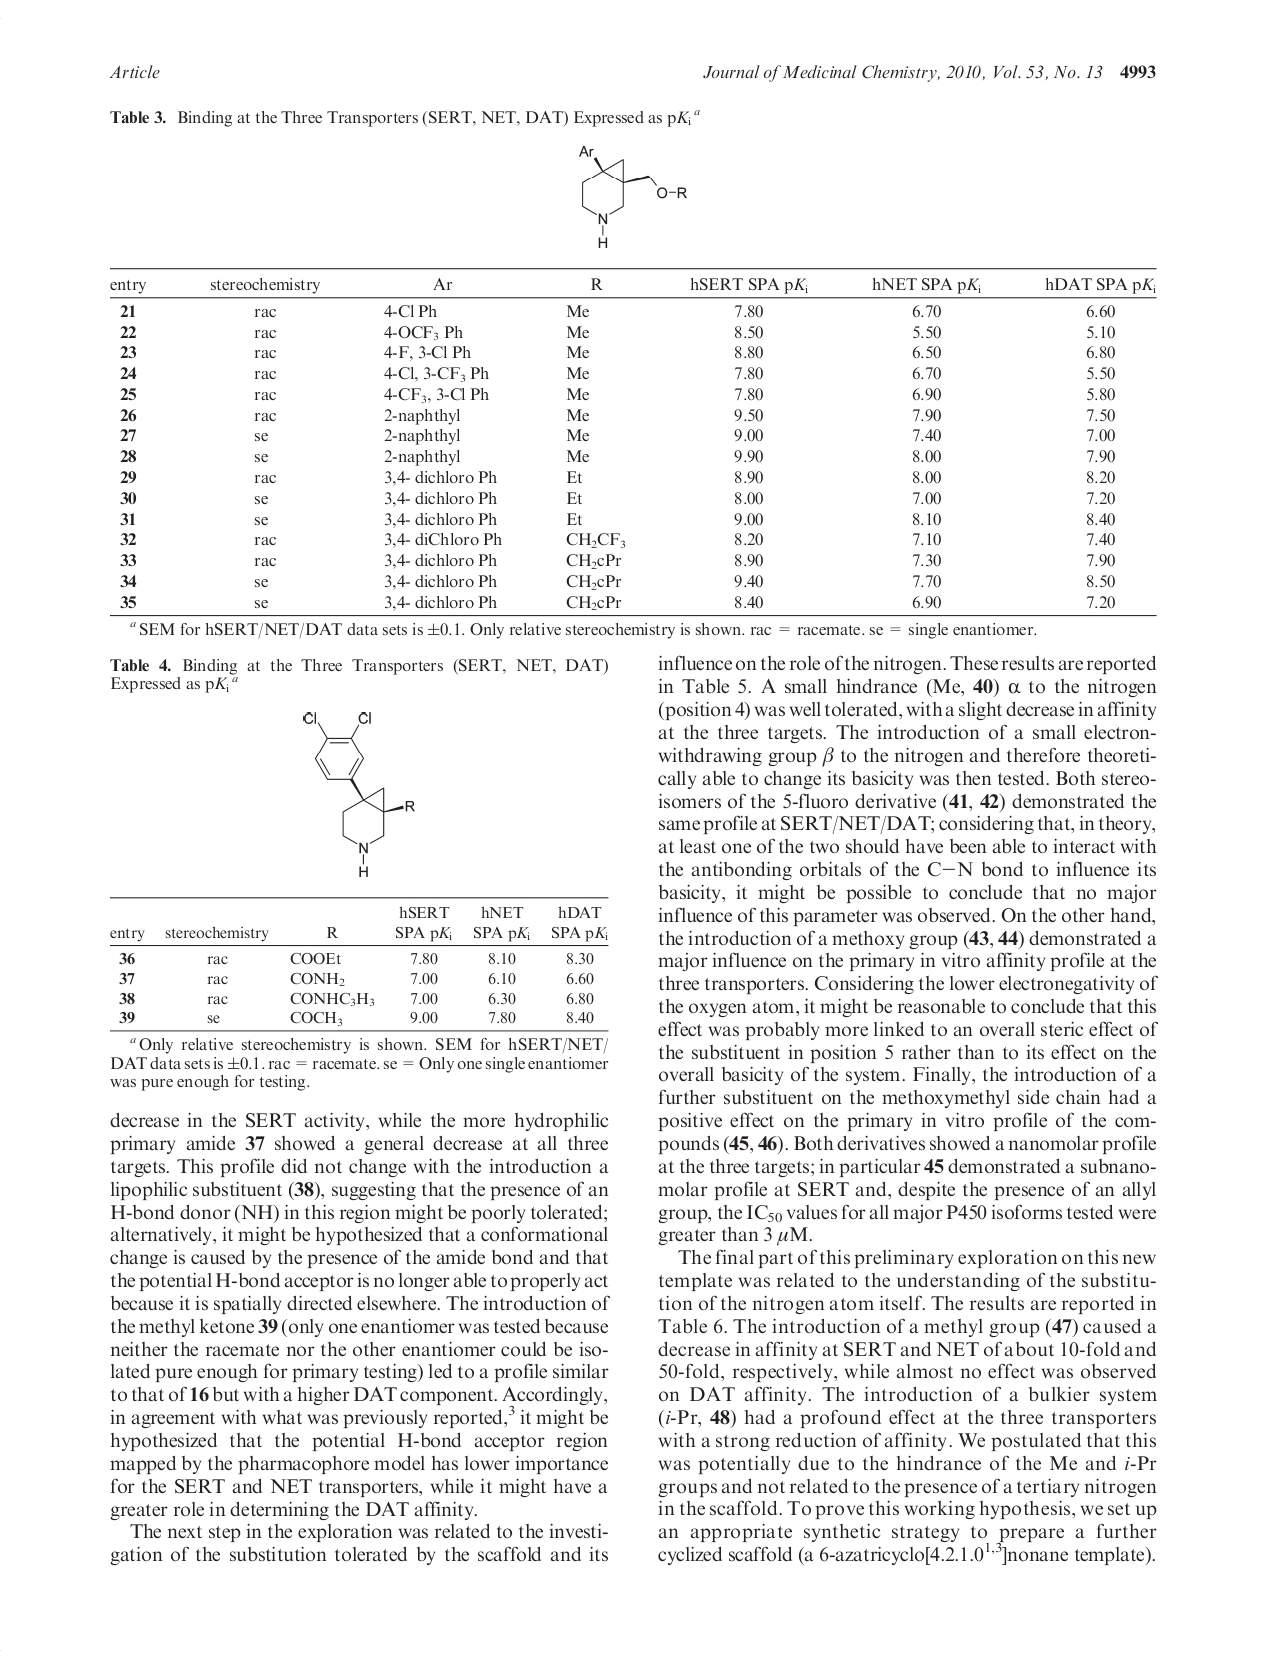exist_molecular: (299, 706, 418, 879), (576, 144, 688, 249)
